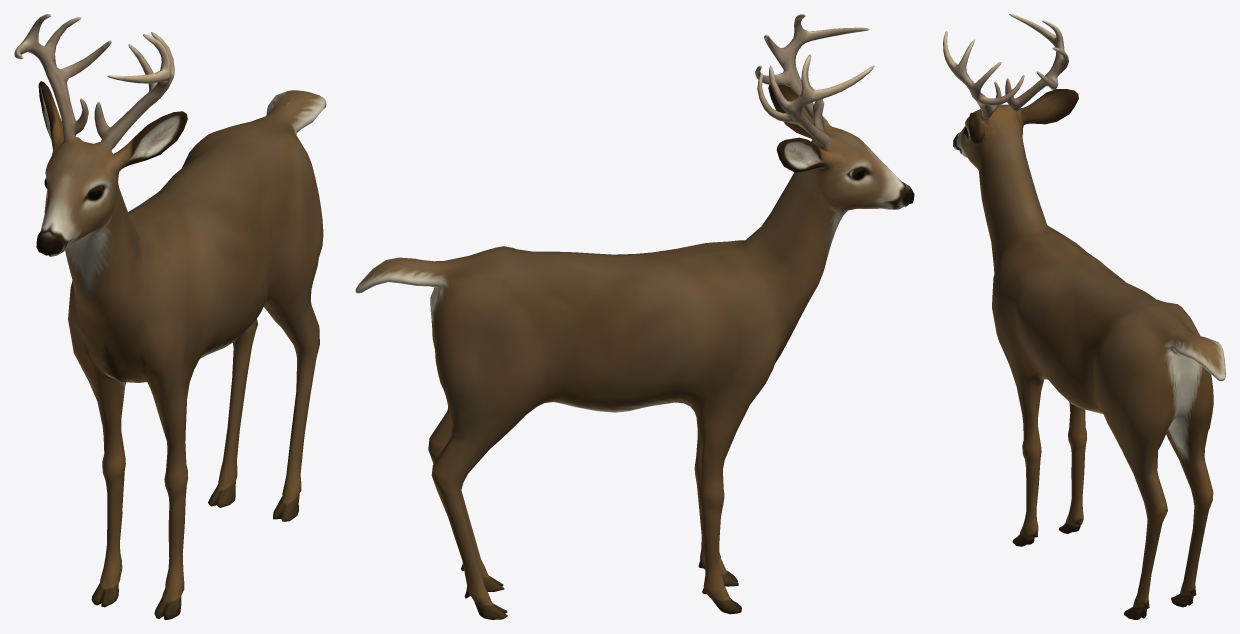
The model's file is jelen.glb.
3 renders of one model, left to right at view 1: azimuth 30°, elevation 25°; view 2: azimuth 150°, elevation 25°; view 3: azimuth 270°, elevation 25°, orthographic. The views are drawn at different scales.
Visible parts, largest first — view 1: Deer-lowP; view 2: Deer-lowP; view 3: Deer-lowP.
Part boxes in pixels (x1=…): Deer-lowP: x1=14, y1=14, x2=326, y2=619; Deer-lowP: x1=355, y1=14, x2=914, y2=619; Deer-lowP: x1=943, y1=14, x2=1225, y2=619.
Bounding box in the file's own units: 5.69 × 7.48 × 3.96.
2 materials, 2 textured.
